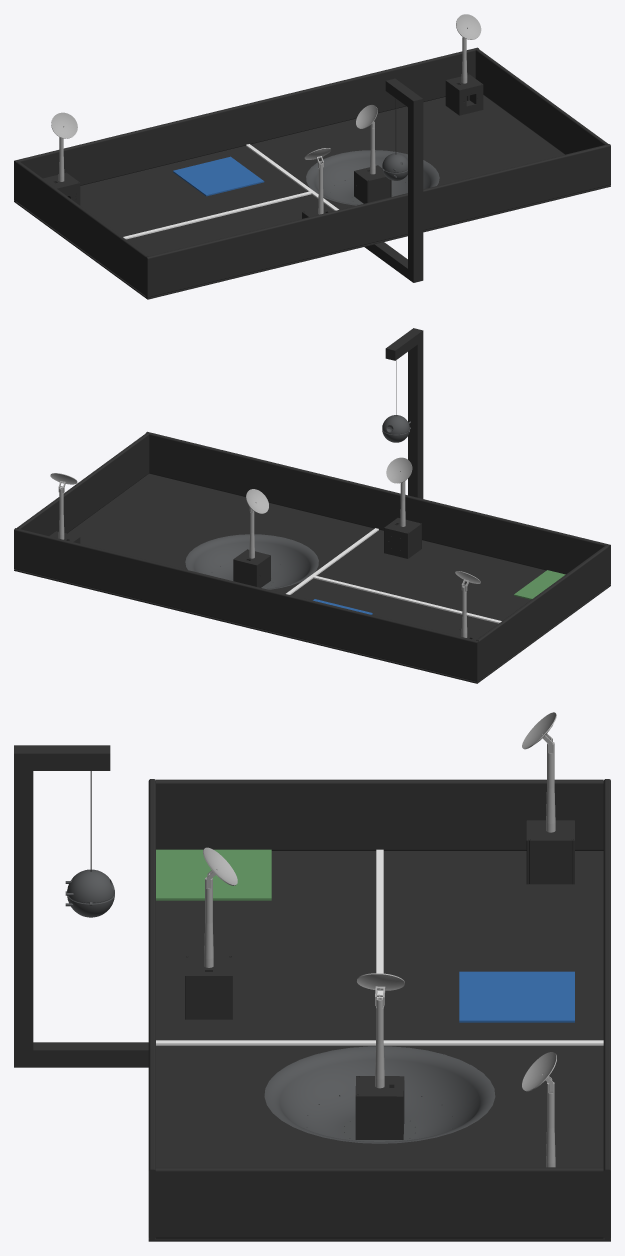
File: field.dae
The picture shows the model from 3 angles, top to bottom: view 1: azimuth 30°, elevation 25°; view 2: azimuth 150°, elevation 25°; view 3: azimuth 270°, elevation 25°; orthographic projection. The views are drawn at different scales.
Visible parts, largest first — view 1: 8x96 wall (×2), 48x96 sheet, 8x44 wall (×2), antenna_dish (×3), antenna_box_crank, upper_rim (×2), antenna_box_unmodified, antenna_box_button, Shell_v2, antenna_box_hatch; view 2: 8x96 wall (×2), 48x96 sheet, 8x44 wall (×2), antenna_box_unmodified, antenna_box_keypad, Shell_v1, antenna_dish, upper_rim; view 3: 48x96 sheet, 8x44 wall (×2), upper_rim (×8), 8x96 wall (×2), antenna_box_unmodified, antenna_box_keypad, antenna_dish (×3), antenna_box_hatch, antenna_box_button, Shell_v2, Shell_v1.
Part boxes in pixels (bbox=[...]): 8x96 wall (×2): bbox=[14, 47, 610, 297]; 48x96 sheet: bbox=[14, 78, 610, 299]; 8x44 wall (×2): bbox=[16, 49, 607, 295]; antenna_dish (×3): bbox=[51, 14, 481, 138]; antenna_box_crank: bbox=[445, 74, 483, 115]; upper_rim (×2): bbox=[321, 150, 366, 180]; antenna_box_unmodified: bbox=[354, 165, 391, 203]; antenna_box_button: bbox=[43, 172, 80, 205]; Shell_v2: bbox=[382, 154, 407, 180]; antenna_box_hatch: bbox=[367, 176, 390, 202]; 8x96 wall (×2): bbox=[14, 431, 610, 682]; 48x96 sheet: bbox=[14, 328, 610, 683]; 8x44 wall (×2): bbox=[16, 433, 608, 679]; antenna_box_unmodified: bbox=[233, 549, 270, 587]; antenna_box_keypad: bbox=[384, 518, 421, 558]; Shell_v1: bbox=[382, 416, 409, 442]; antenna_dish: bbox=[386, 457, 412, 483]; upper_rim: bbox=[213, 535, 239, 561]; 48x96 sheet: bbox=[14, 745, 610, 1241]; 8x44 wall (×2): bbox=[156, 779, 603, 1238]; upper_rim (×8): bbox=[264, 1046, 494, 1120]; 8x96 wall (×2): bbox=[148, 779, 610, 1239]; antenna_box_unmodified: bbox=[355, 1076, 404, 1139]; antenna_box_keypad: bbox=[185, 955, 232, 1019]; antenna_dish (×3): bbox=[203, 847, 556, 1091]; antenna_box_hatch: bbox=[528, 839, 573, 884]; antenna_box_button: bbox=[526, 820, 574, 884]; Shell_v2: bbox=[65, 869, 90, 917]; Shell_v1: bbox=[91, 869, 114, 917].
Size of the model in its own units: 2.44 by 1.57 by 0.9652.
